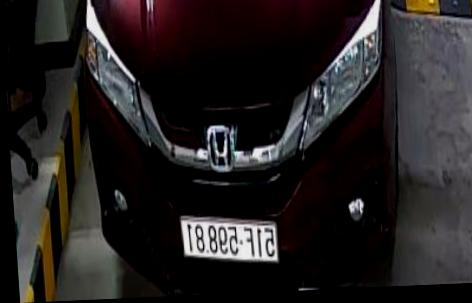License_Plate: (180, 216, 281, 264)
